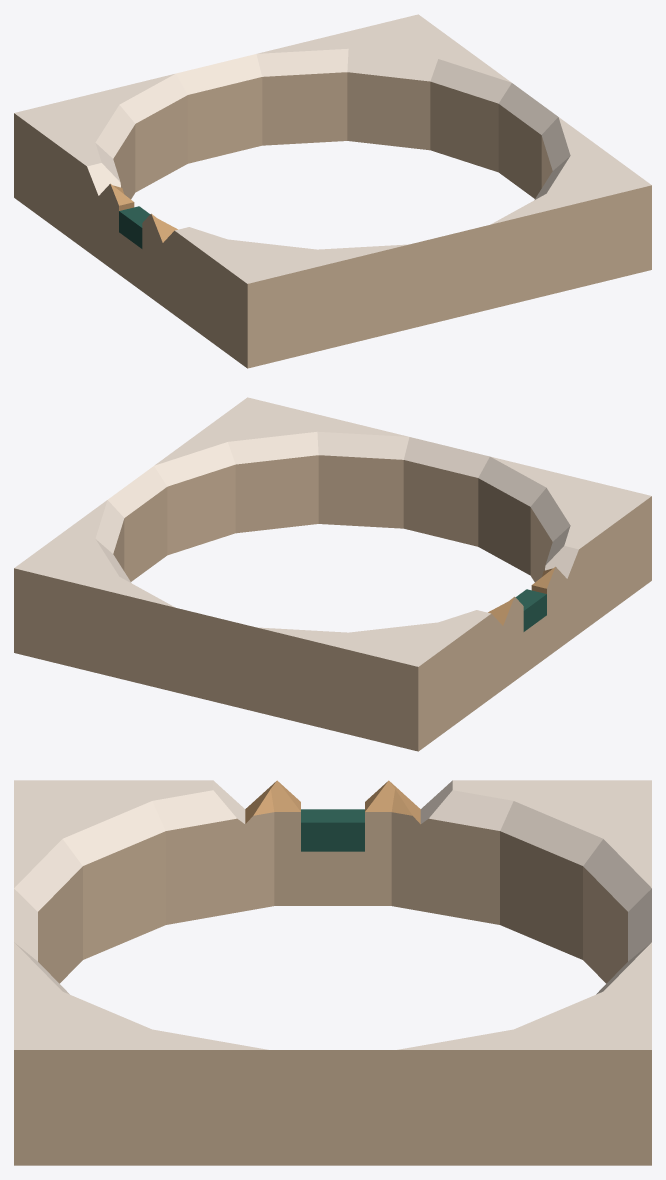
Rendered from Puzzle_Floor_Conduit_Rotating_Housing_End.fbx.
The picture shows the model from 3 angles, top to bottom: view 1: azimuth 30°, elevation 25°; view 2: azimuth 150°, elevation 25°; view 3: azimuth 270°, elevation 25°; orthographic projection. The views are drawn at different scales.
Visible parts, largest first — view 1: Sandstone_Trim.Sandstone_Trim.Sandstone_Trim.Sandstone_Trim., Sandstone_Floor.Sandstone_Floor.Sandstone_Floor.Sandstone_Fl, object1, Sandstone_5.Sandstone_5; view 2: Sandstone_Trim.Sandstone_Trim.Sandstone_Trim.Sandstone_Trim., Sandstone_Floor.Sandstone_Floor.Sandstone_Floor.Sandstone_Fl, object1, Sandstone_5.Sandstone_5; view 3: Sandstone_Trim.Sandstone_Trim.Sandstone_Trim.Sandstone_Trim., Sandstone_Floor.Sandstone_Floor.Sandstone_Floor.Sandstone_Fl, object1, Sandstone_5.Sandstone_5.
Boxes of the visible parts, <box> form: Sandstone_Trim.Sandstone_Trim.Sandstone_Trim.Sandstone_Trim.: <box>14,72,651,368</box>; Sandstone_Floor.Sandstone_Floor.Sandstone_Floor.Sandstone_Fl: <box>14,14,651,283</box>; object1: <box>119,206,150,248</box>; Sandstone_5.Sandstone_5: <box>110,184,177,242</box>; Sandstone_Trim.Sandstone_Trim.Sandstone_Trim.Sandstone_Trim.: <box>14,455,651,751</box>; Sandstone_Floor.Sandstone_Floor.Sandstone_Floor.Sandstone_Fl: <box>14,397,651,666</box>; object1: <box>515,589,546,631</box>; Sandstone_5.Sandstone_5: <box>488,567,555,625</box>; Sandstone_Trim.Sandstone_Trim.Sandstone_Trim.Sandstone_Trim.: <box>14,812,651,1165</box>; Sandstone_Floor.Sandstone_Floor.Sandstone_Floor.Sandstone_Fl: <box>14,780,651,1049</box>; object1: <box>301,809,364,851</box>; Sandstone_5.Sandstone_5: <box>245,780,420,823</box>.
Bounding box in the file's own units: 1 × 0.2 × 1.
